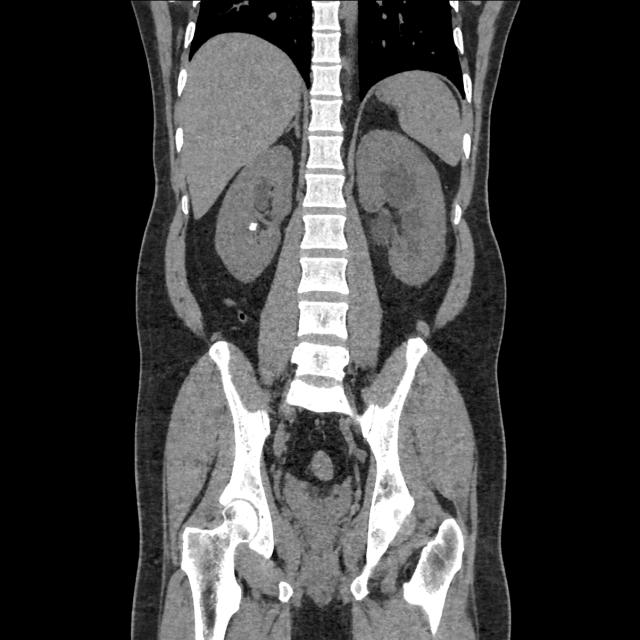kidneystone: (249, 222, 258, 232)
